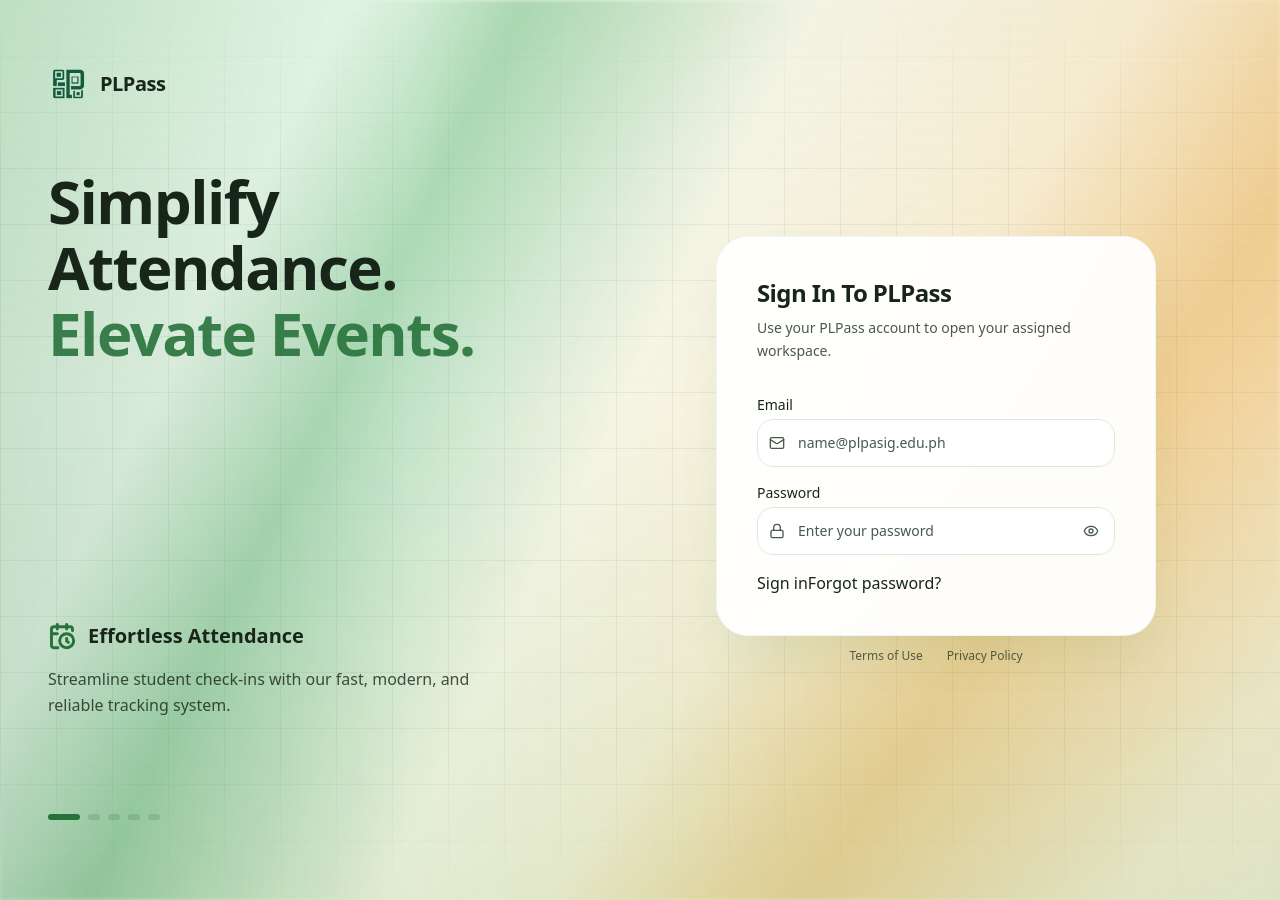
Scenario: mock authentication flow › rejects student accounts in the desktop app
Type "student.1@plpass.test" into the field labelled "Email" at coordinates (936, 443), box [757, 419, 1115, 467]
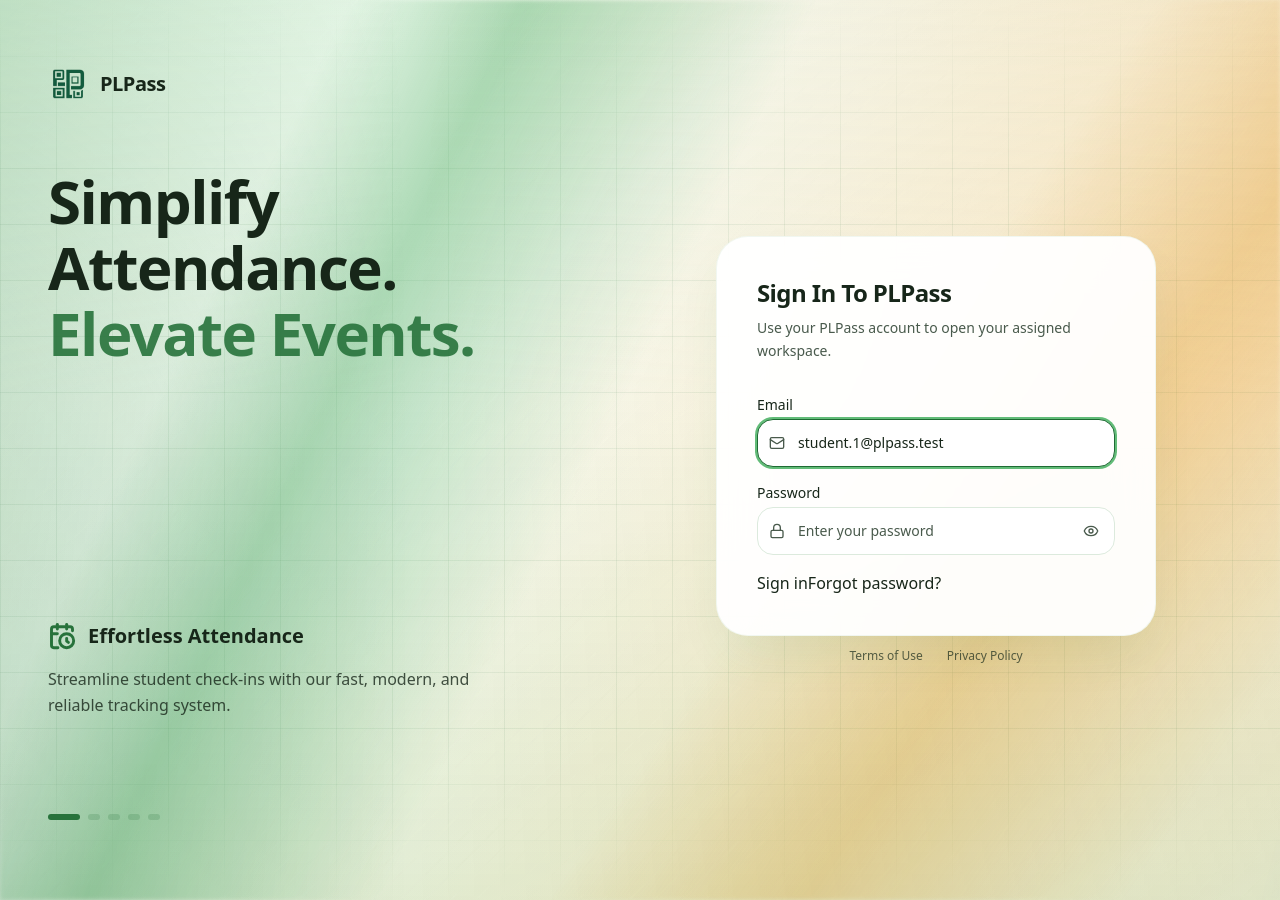
Type "password123" into the password field labelled "Password" at coordinates (936, 531), box [757, 507, 1115, 555]
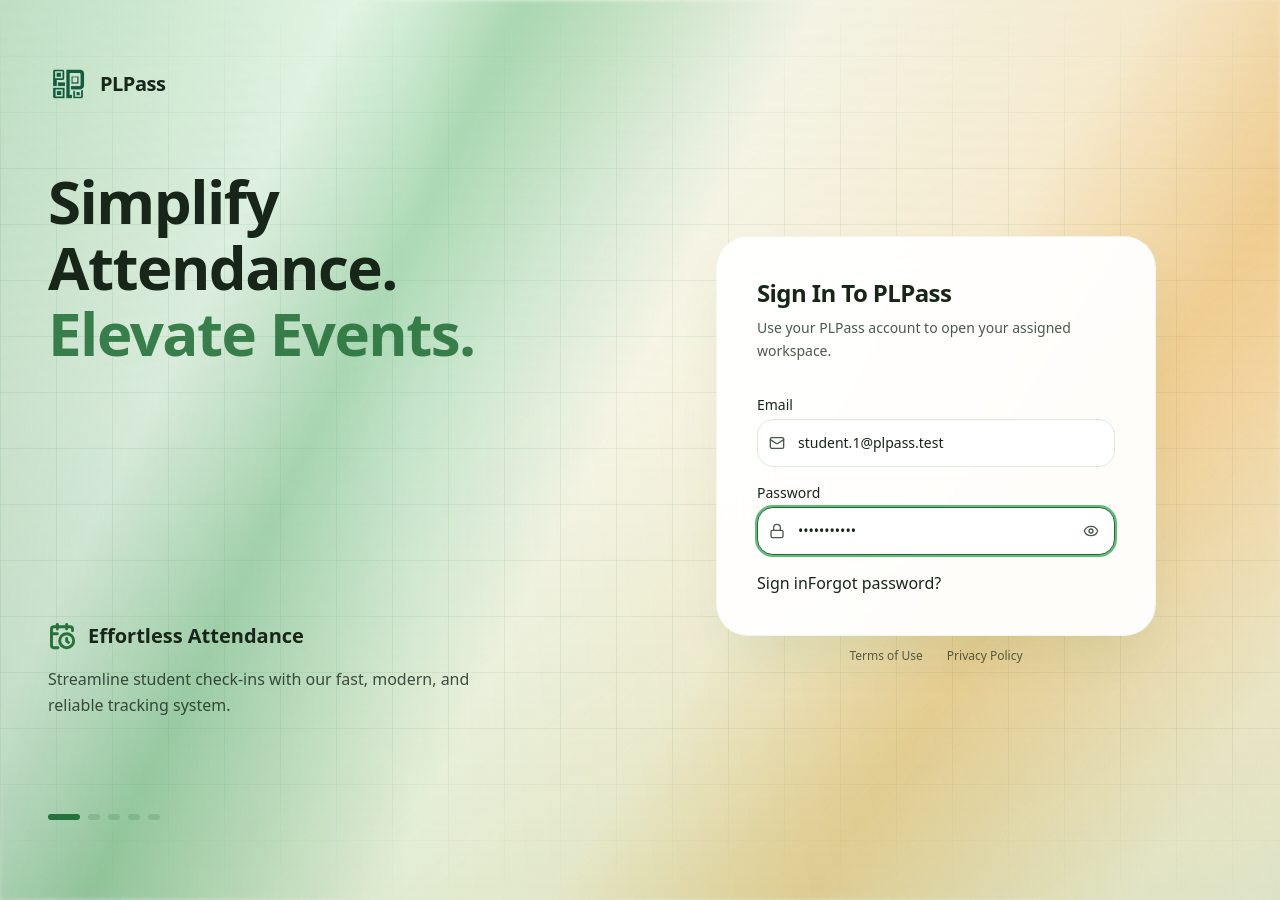
Click the button "Sign in" at coordinates (782, 583), box [757, 571, 808, 595]
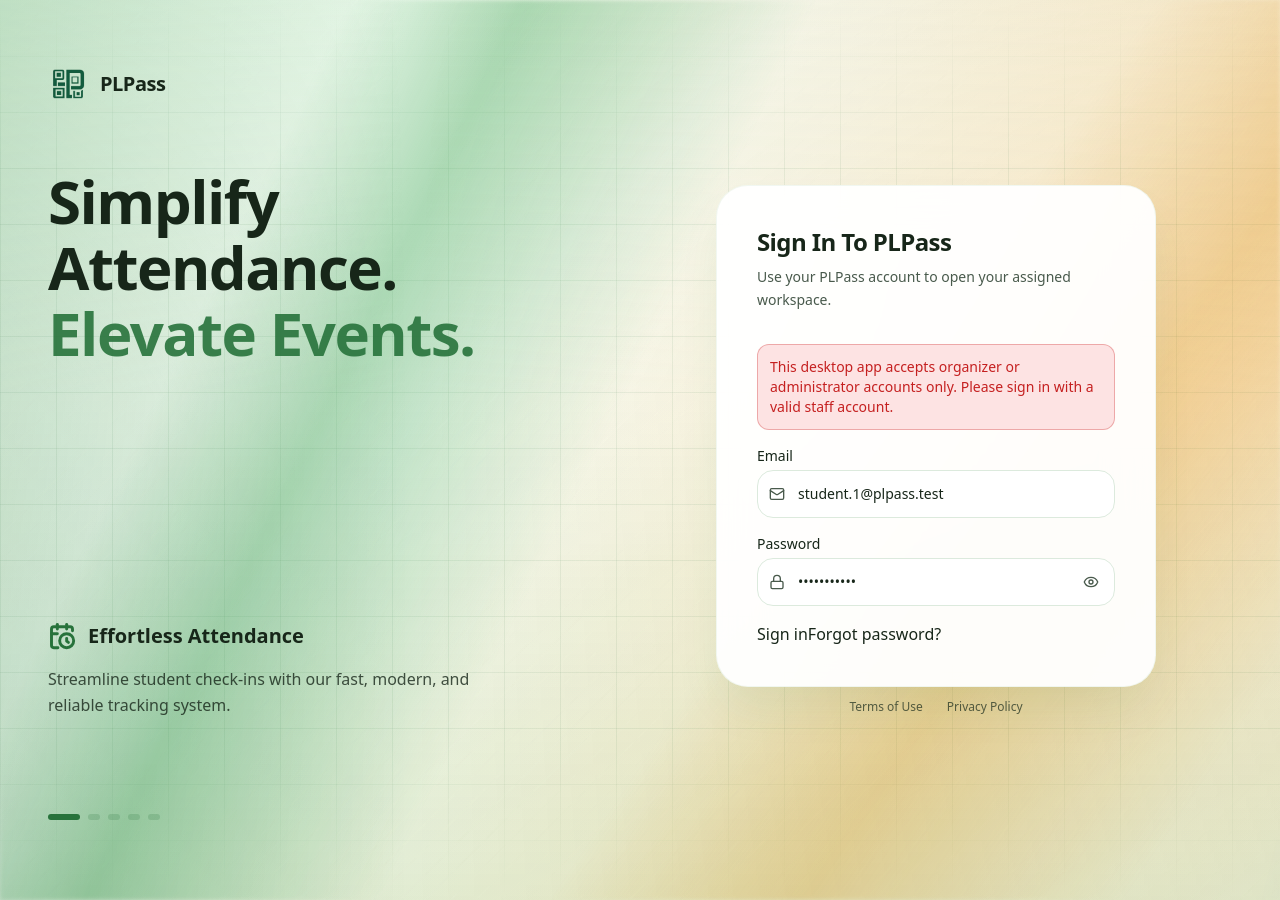
Expected: the heading "Sign in to PLPass" is shown, [757, 225, 951, 258]
Result: the message shows "desktop app accepts organizer or administrator accounts only" at [770, 357, 1094, 416]
